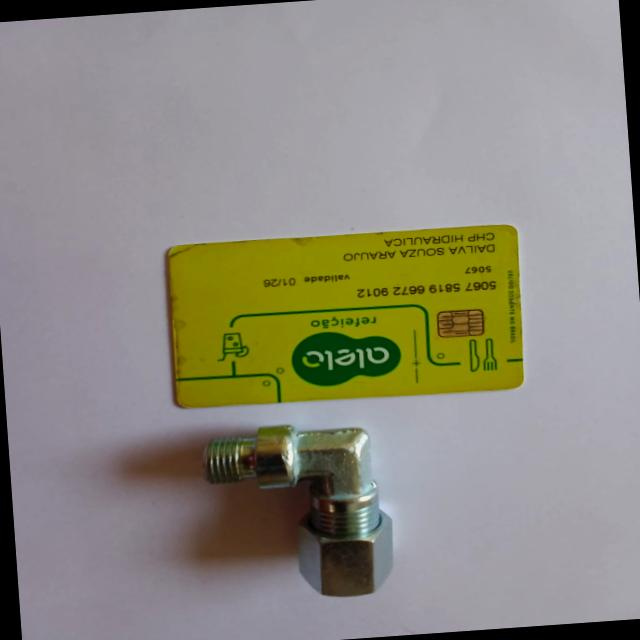cartao: (164, 222, 524, 410)
rosca_externa: (204, 417, 395, 606)
